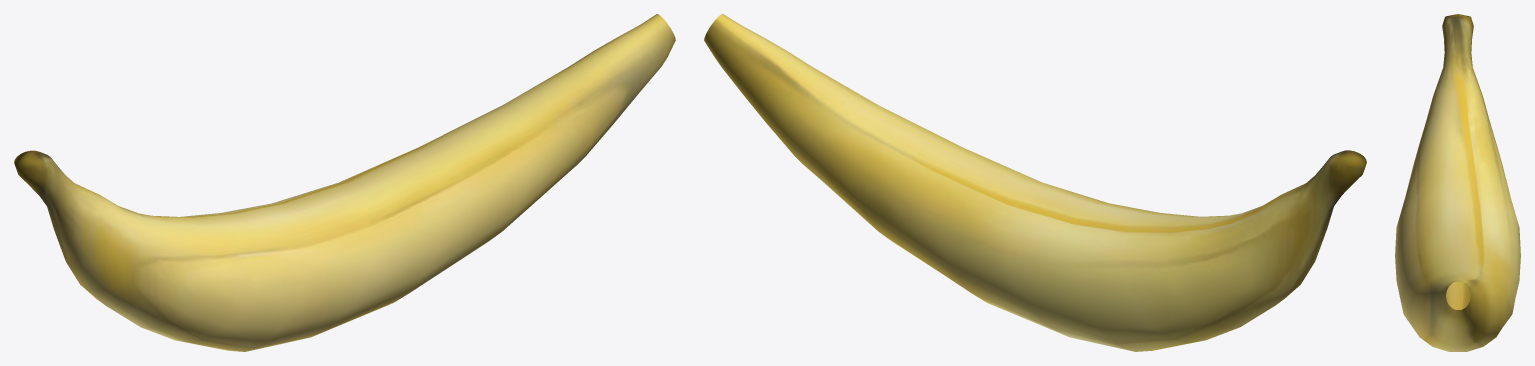
Rendered from Banana 1.FBX.
3 renders of one model, left to right at view 1: azimuth 30°, elevation 25°; view 2: azimuth 150°, elevation 25°; view 3: azimuth 270°, elevation 25°, orthographic. The views are drawn at different scales.
Parts seen in each view (by area): view 1: Cylinder001; view 2: Cylinder001; view 3: Cylinder001.
Part boxes in pixels (<box>): Cylinder001: <box>14,14,675,351</box>; Cylinder001: <box>704,14,1366,351</box>; Cylinder001: <box>1395,14,1520,351</box>.
Size of the model in its own units: 109 by 38.18 by 21.81.
